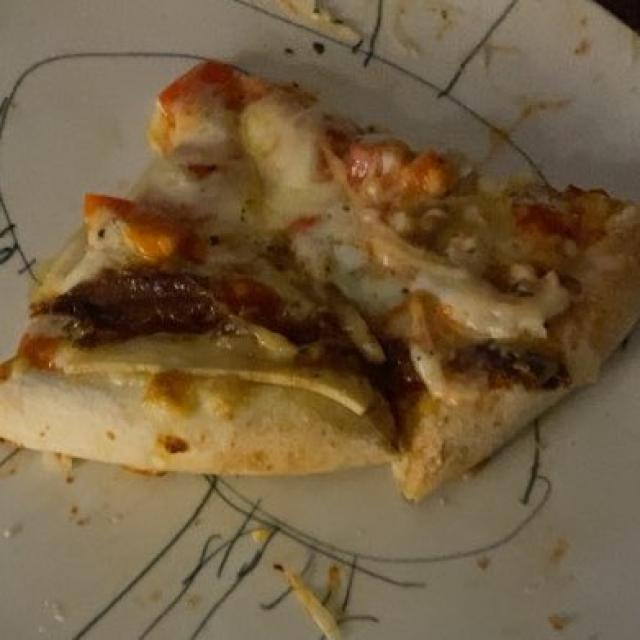pizza: (24, 68, 629, 465)
